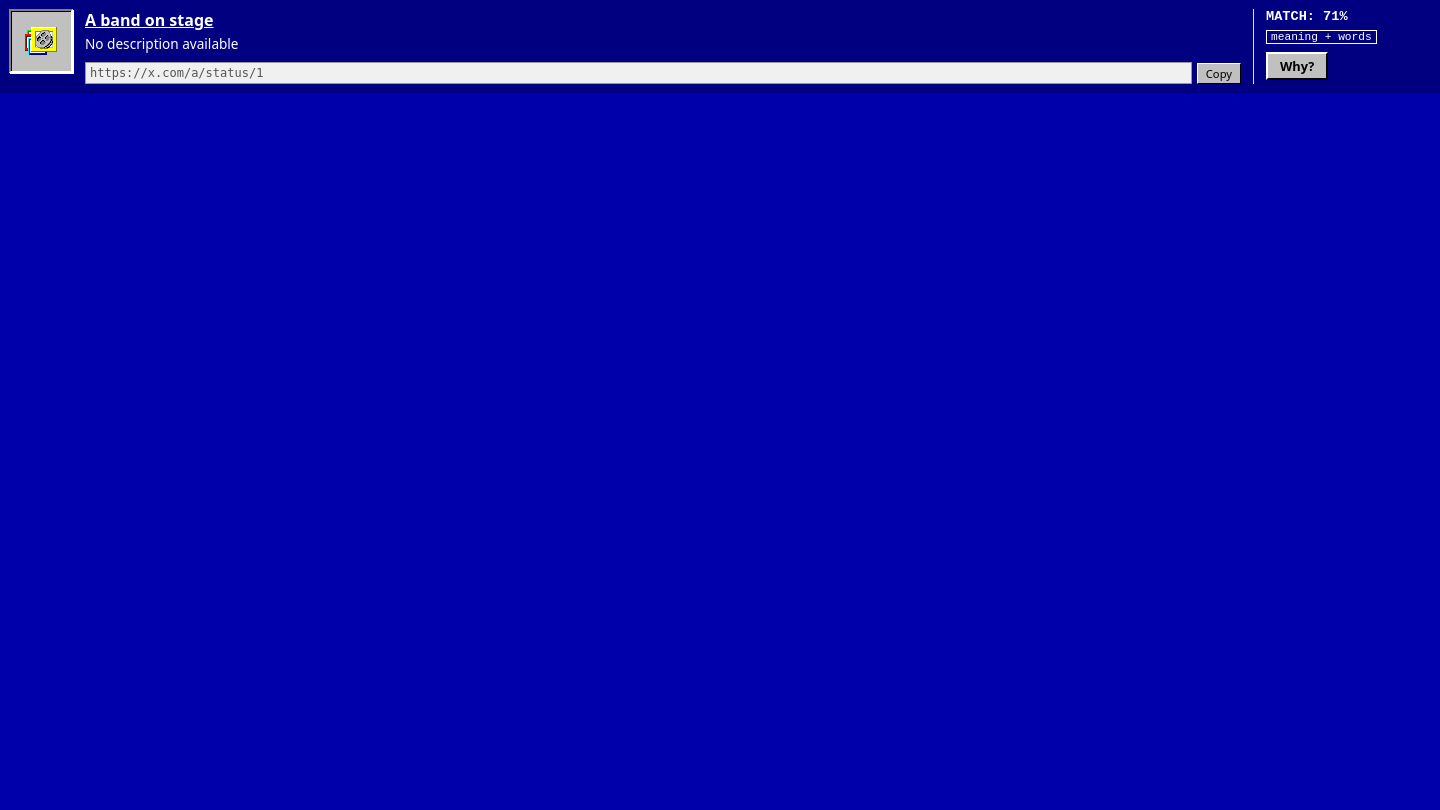
it: the results of a search › should close the window on OK
Click the button "Why?": coordinates (1297, 66) [1266,52,1328,80]
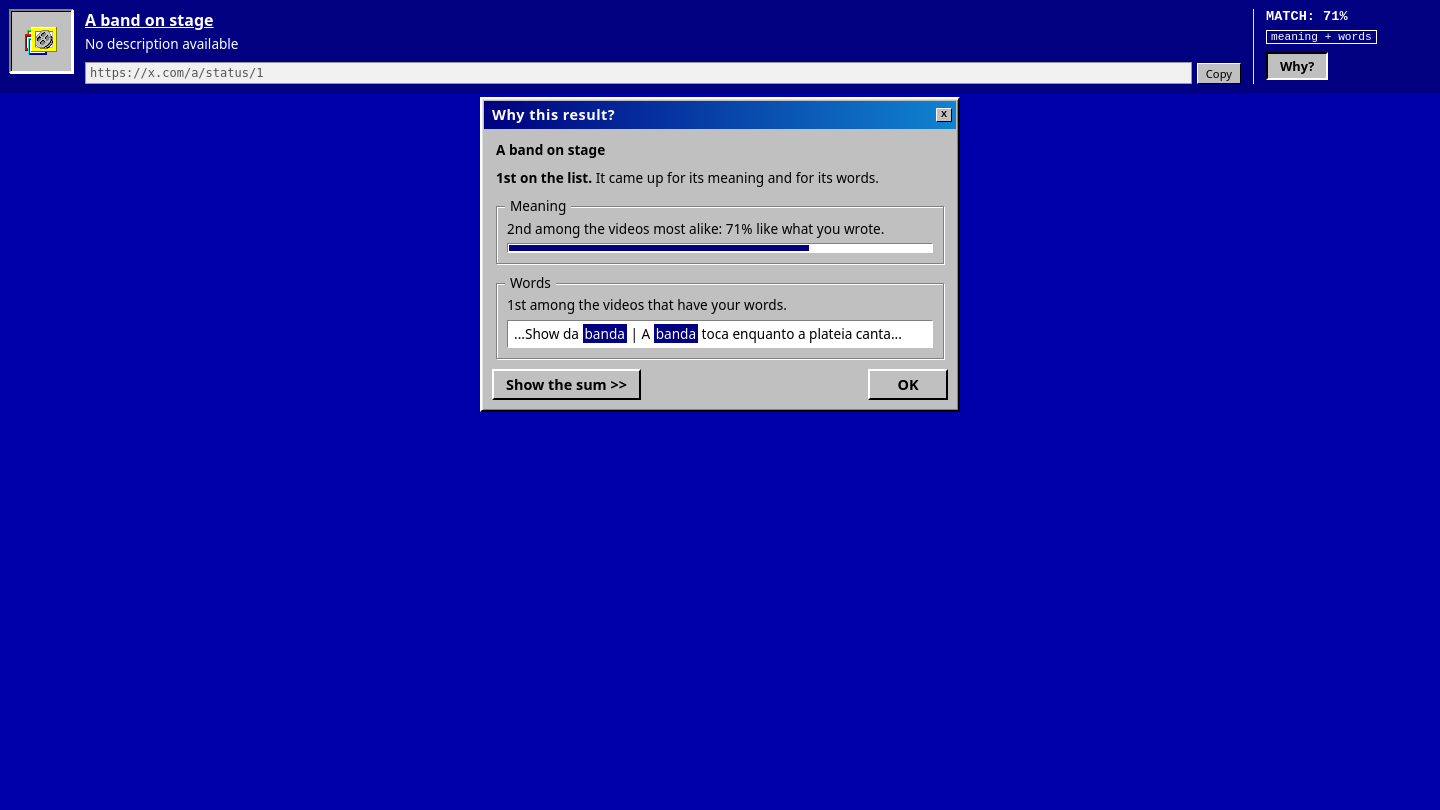
Click the button "OK": coordinates (908, 384) [868,369,948,400]
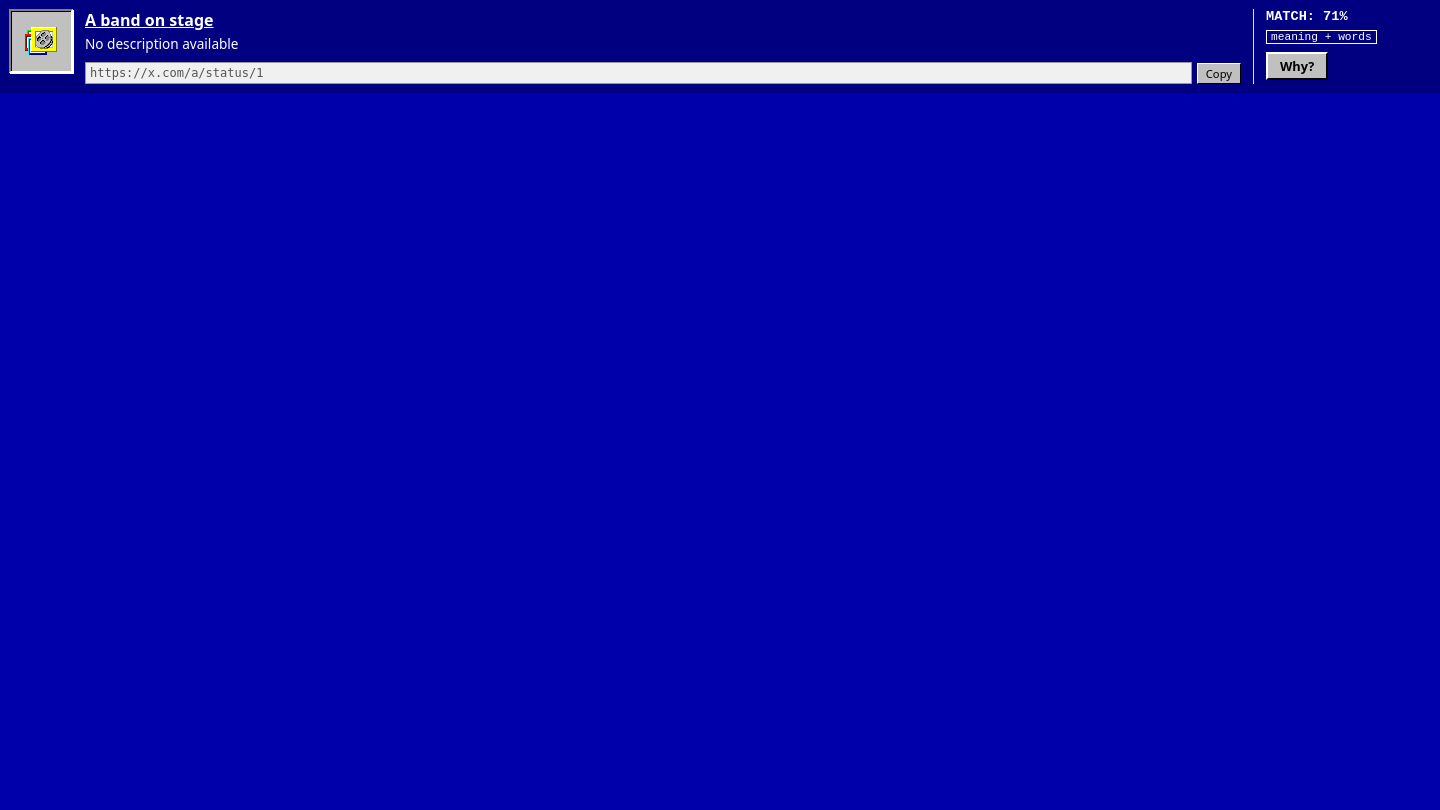
Expected: the text "Why this result?" is gone
